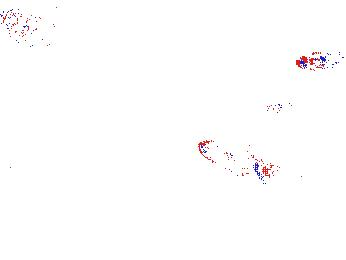X-ray fish: (1, 7, 66, 53)
red belly glassfish: (296, 51, 346, 70), (261, 98, 305, 116)
redtail glassfish: (197, 140, 276, 188)
